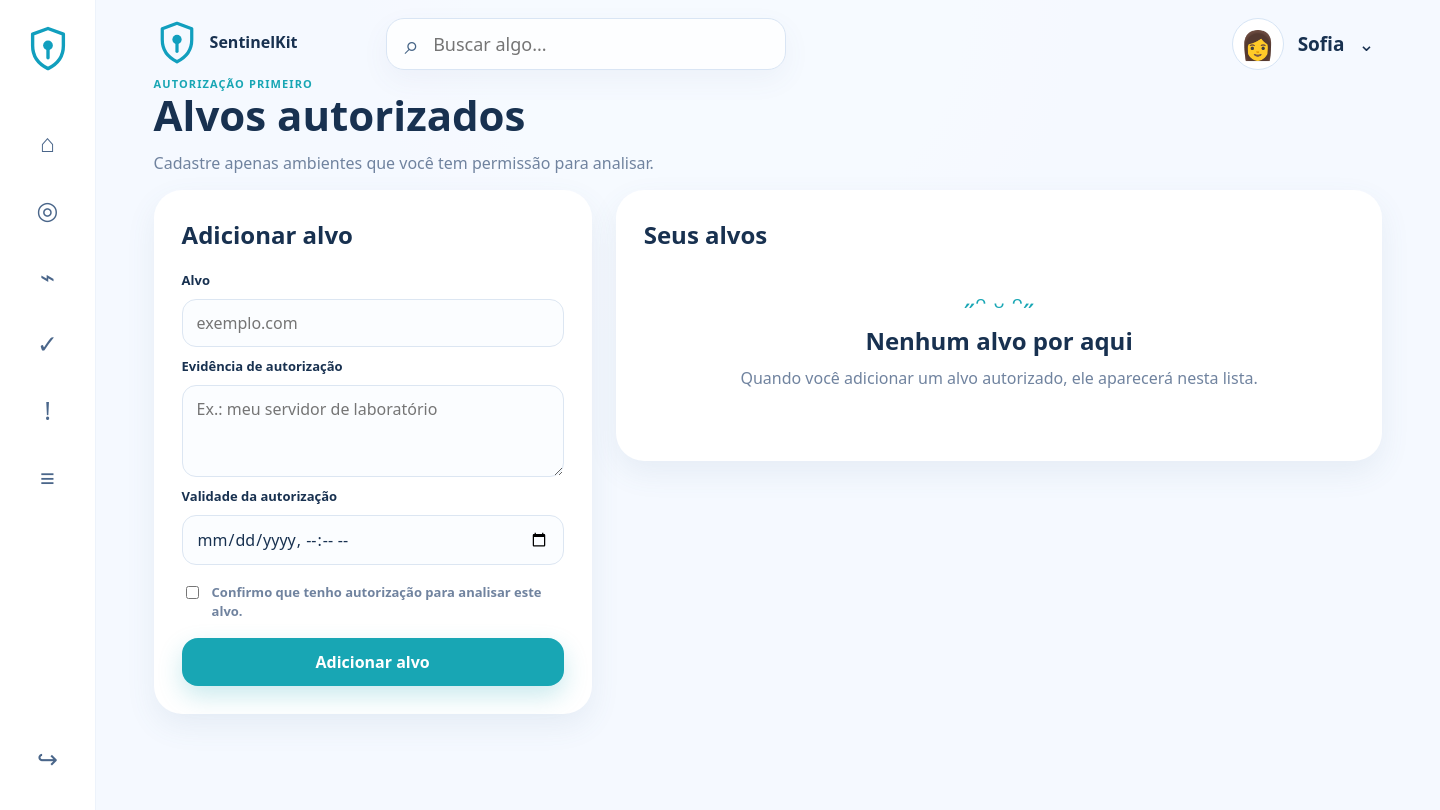
TargetsView › requires explicit authorization confirmation
The width and height of the screenshot is (1440, 810).
Type "example.com" into the field labelled "Alvo" at (373, 324), box [182,300,564,348]
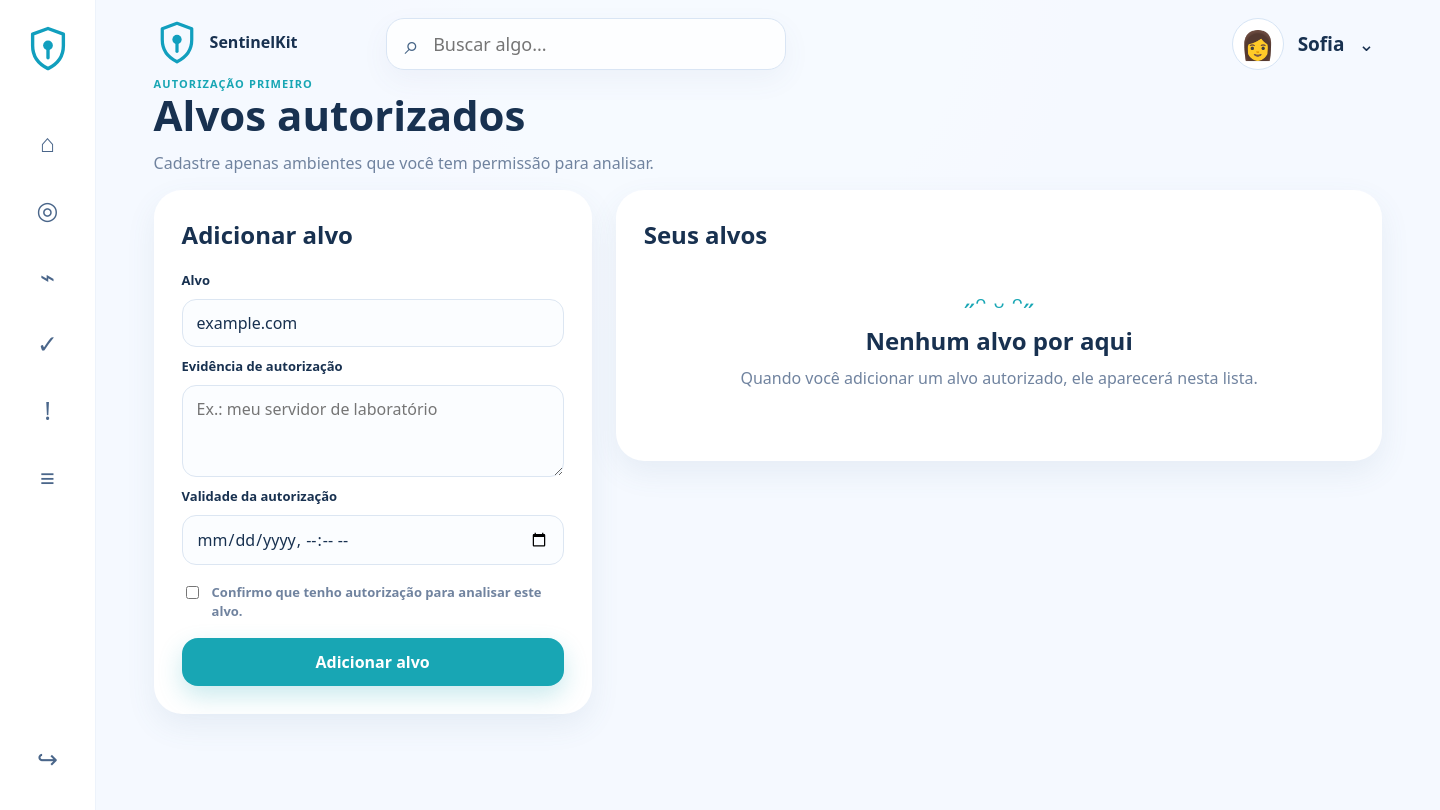
Type "Meu lab" into the text box labelled "Evidência de autorização" at (373, 432), box [182,386,564,478]
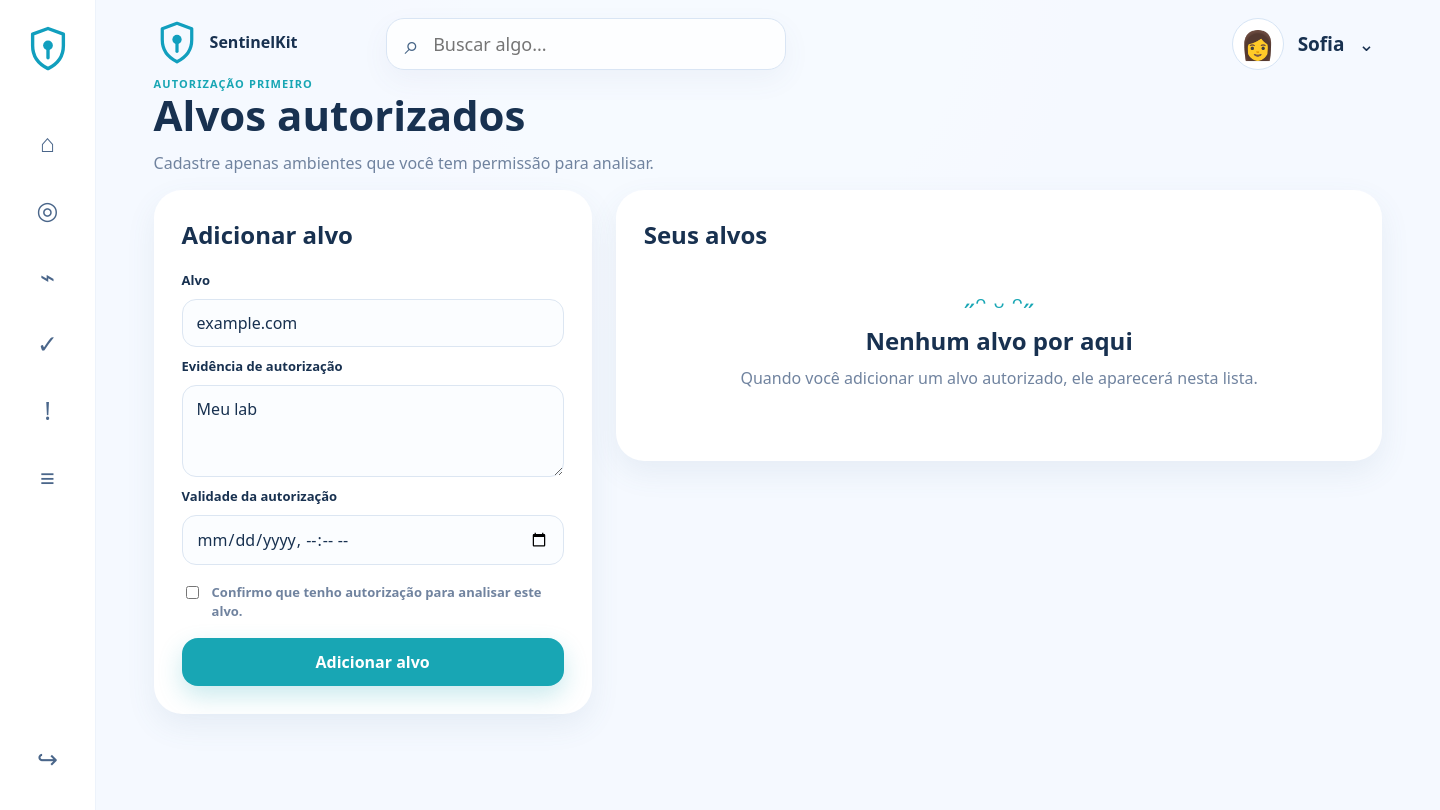
Type "2099-01-01T12:00" into the field labelled "Validade da autorização" at (373, 540), box [182,516,564,566]
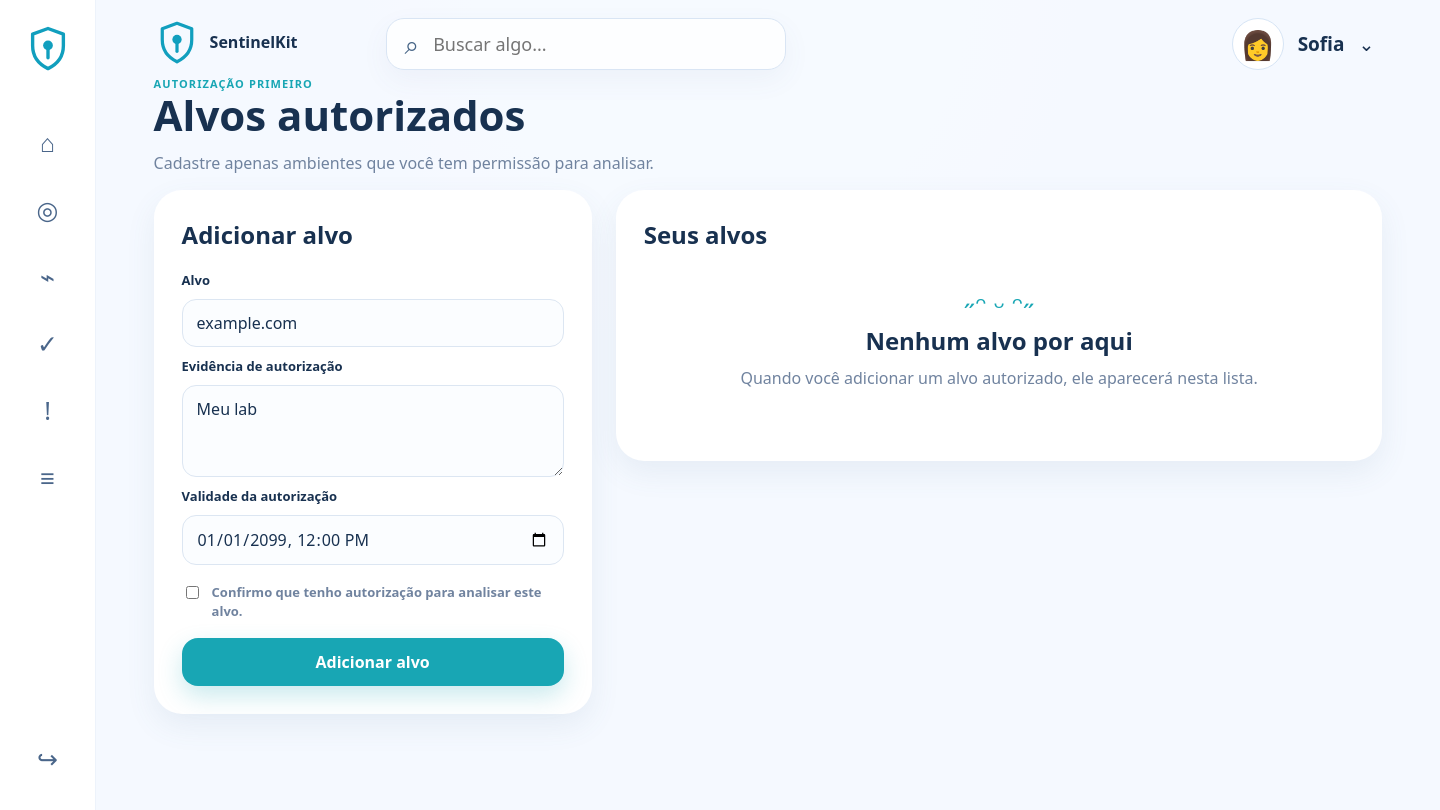
Click the button "Adicionar alvo" at (373, 662), box [182,638,564,686]
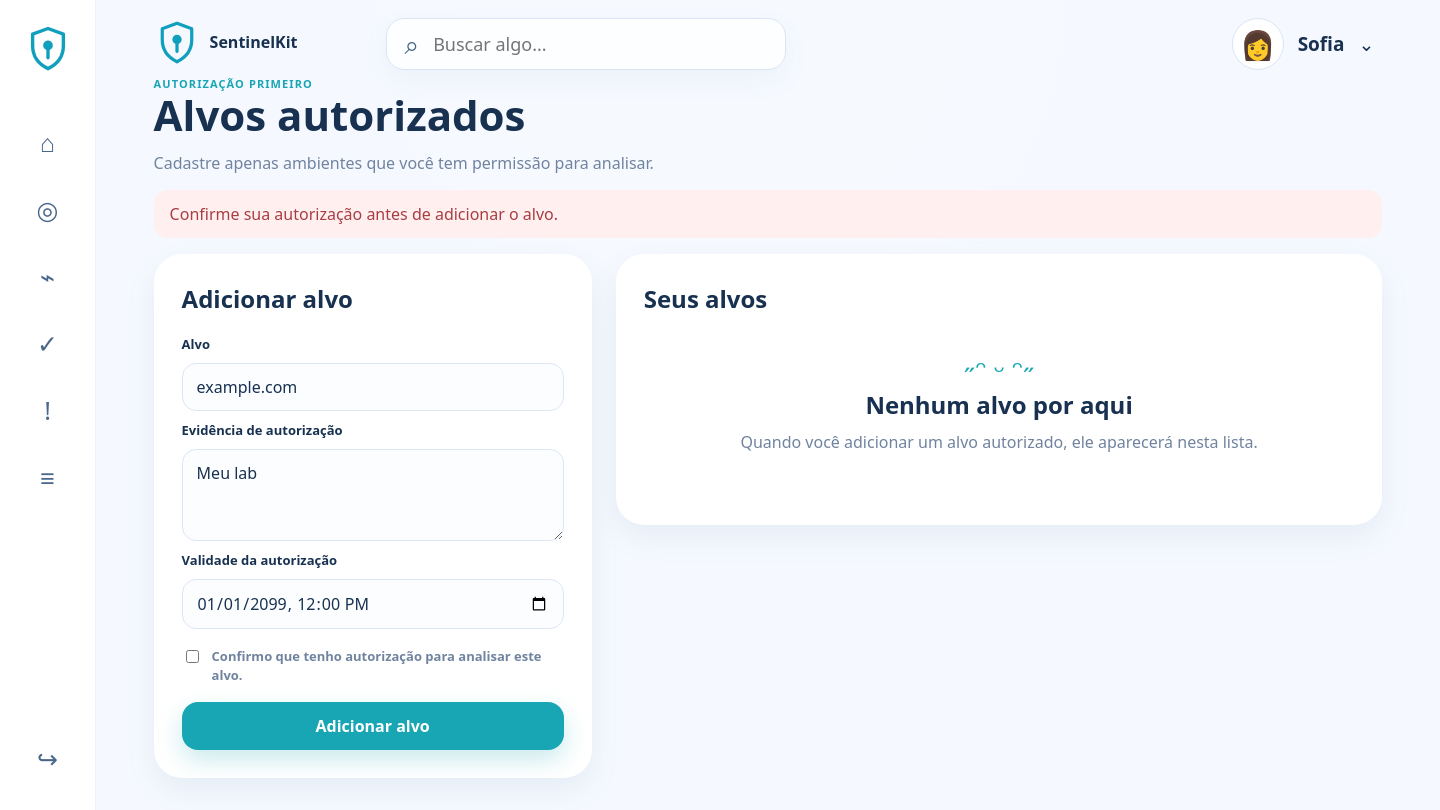
Check: the message shows "Confirme sua autorização", box [170,204,558,226]
